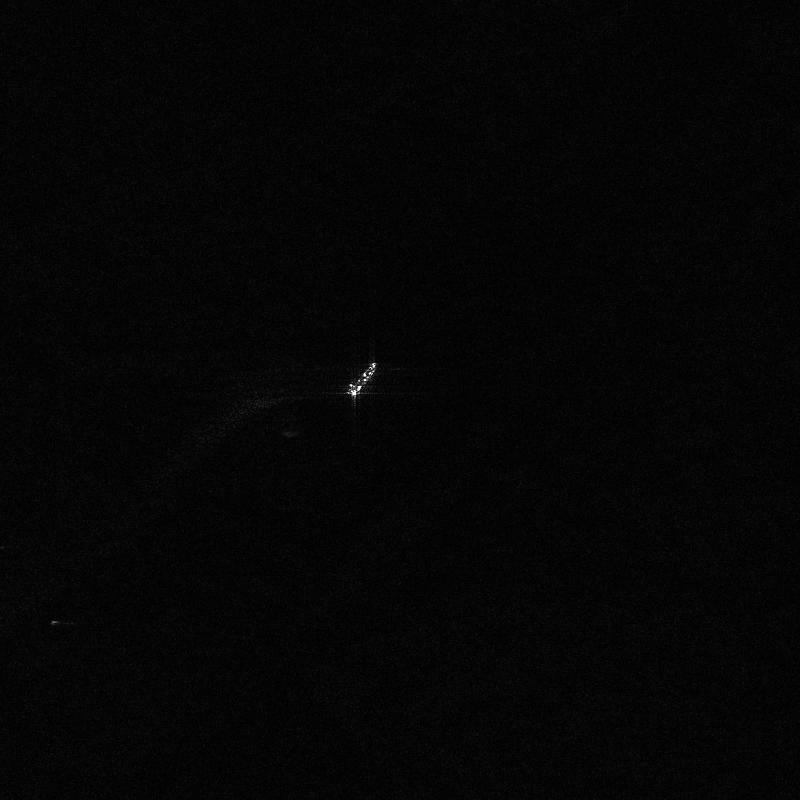ship: (347, 362, 377, 395)
